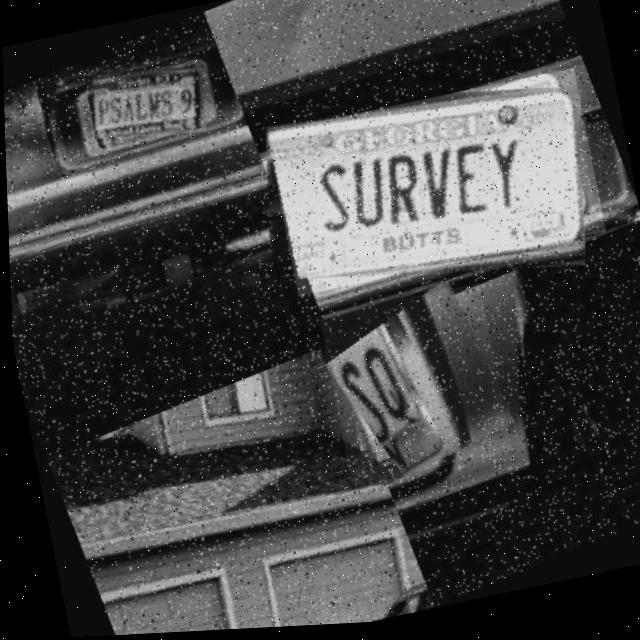LicensePlate: (266, 95, 584, 284), (315, 286, 509, 490), (92, 69, 206, 140)
